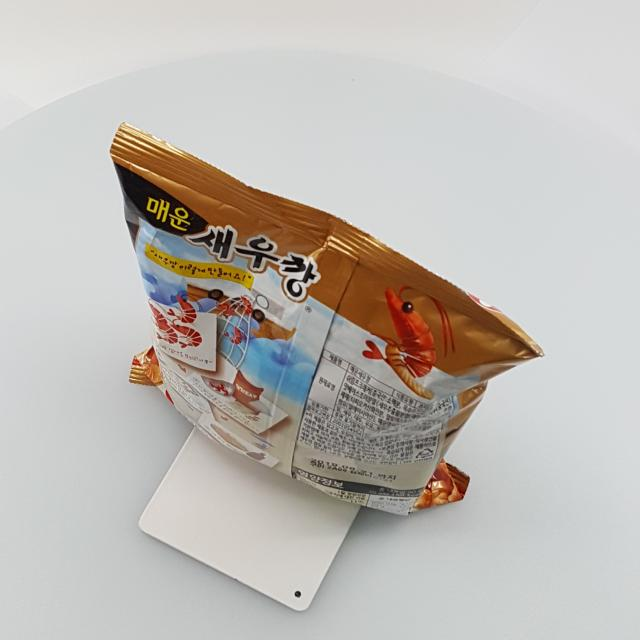-90G: (110, 122, 546, 517)
